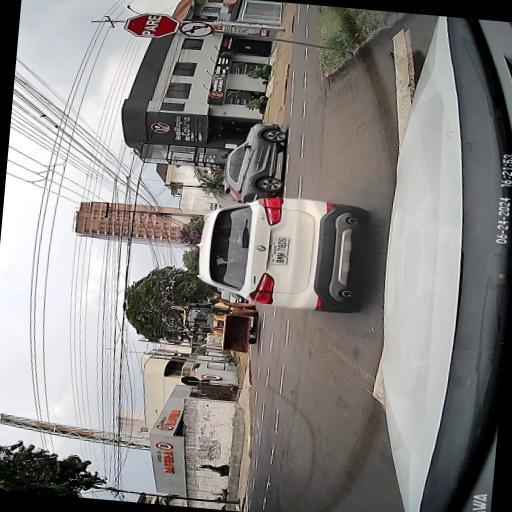R-1: (123, 10, 180, 40)
R-24a: (178, 18, 215, 38)
